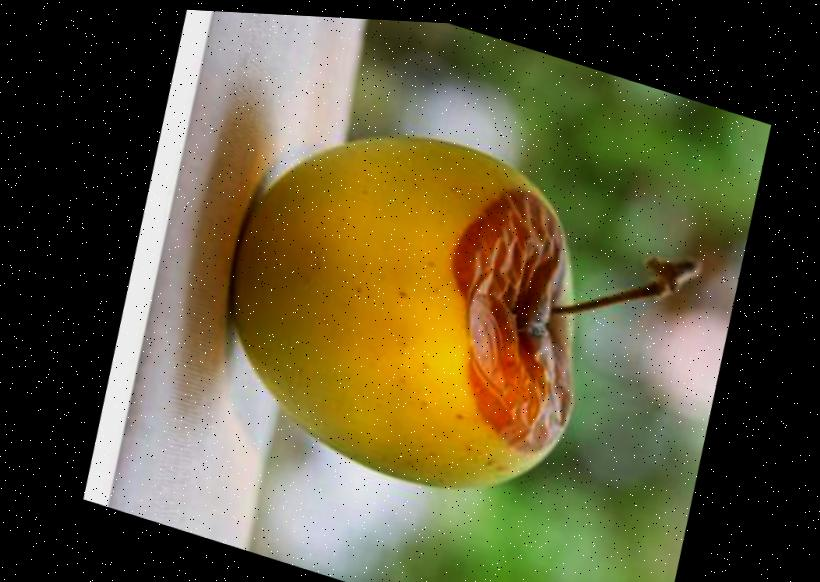ROT: (160, 65, 666, 569)
